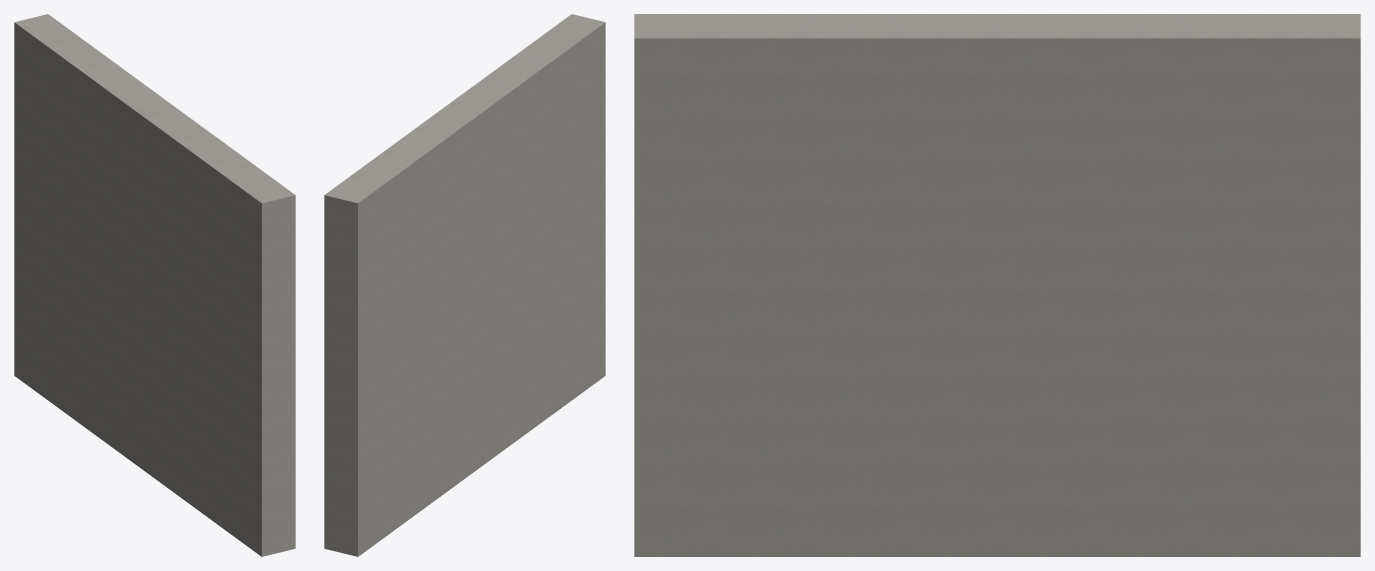
Rendered from fstWallE.obj.
The picture shows the model from 3 angles, left to right: view 1: azimuth 30°, elevation 25°; view 2: azimuth 150°, elevation 25°; view 3: azimuth 270°, elevation 25°; orthographic projection. The views are drawn at different scales.
Visible parts, largest first — view 1: Box011; view 2: Box011; view 3: Box011.
Boxes of the visible parts, x1,y1,x2,y2 form: Box011: (14, 14, 295, 556); Box011: (324, 14, 605, 556); Box011: (634, 14, 1360, 556).
Bounding box in the file's own units: 11.81 × 118 × 150.
